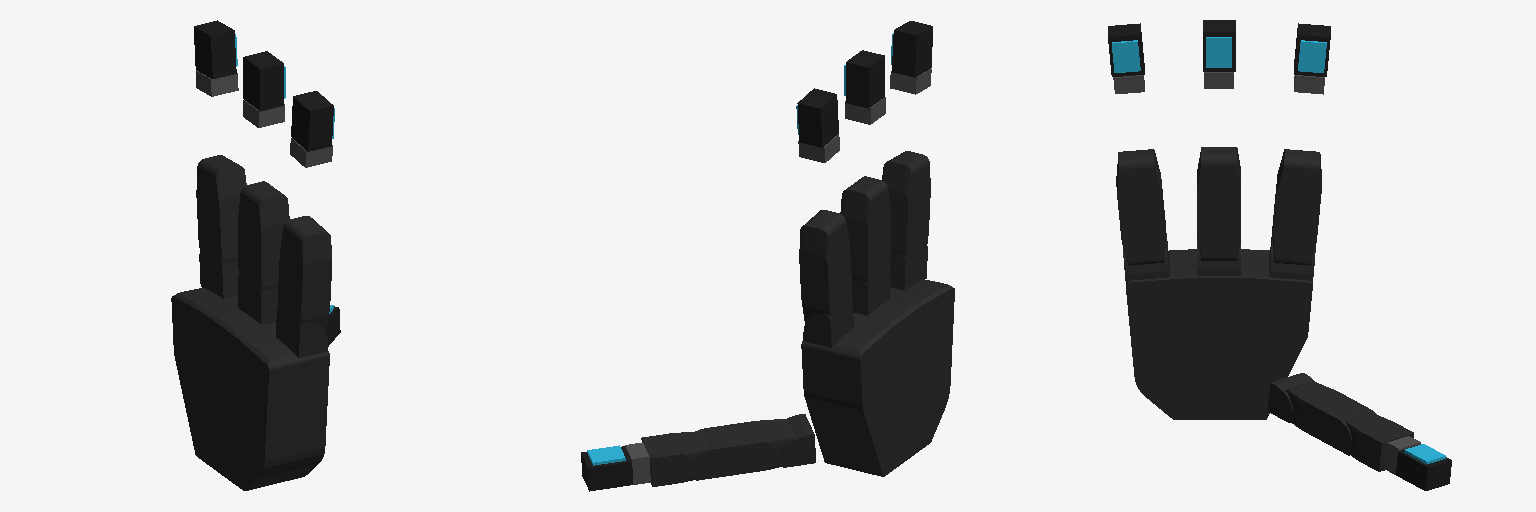
robot.urdf — allegro_right_digit_proxy:
<?xml version='1.0' encoding='utf-8'?>
<robot name="allegro_right_digit_proxy">
  
  
  
  
  
  
  
  <link name="base_link">
    <visual>
      <geometry>
        <mesh filename="meshes/allegro/base_link.obj" />
      </geometry>
      <origin rpy="0 0 0" xyz="0 0 0 " />
      <material name="black">
        <color rgba="0.2 0.2 0.2 1" />
      </material>
    </visual>
    <collision>
      <origin rpy="0 0 0" xyz="-0.009300 0 -0.0475" />
      <geometry>
        
        <box size="0.0408 0.1130 0.095" />
      </geometry>
    </collision>
    <inertial>
      <origin xyz="0 0 0.0475" rpy="0 0 0" />
      <mass value="0.4154" />
      <inertia ixx="1e-4" ixy="0.0" ixz="0.0" iyy="1e-4" iyz="0.0" izz="1e-4" />
    </inertial>
  </link>
  
  
  
  
  <link name="link_0.0">
    <visual>
      <geometry>
        <mesh filename="meshes/allegro/link_0.0.obj" />
      </geometry>
      <material name="black" />
    </visual>
    <collision>
      <geometry>
        <box size="0.0196 0.0275 0.0164" />
      </geometry>
      <origin rpy="0 0 0" xyz="0 0 0.0082" />
    </collision>
    <inertial>
      <mass value="0.0119" />
      <origin xyz="0 0 0" rpy="0 0 0" />
      <inertia ixx="1.01666658333e-06" ixy="0.0" ixz="0.0" iyy="6.47677333333e-07" iyz="0.0" izz="1.01666658333e-06" />
    </inertial>
  </link>
  <joint name="joint_0.0" type="revolute">
    <axis xyz="0 0 1" />
    <limit effort="0.35" lower="-0.47" upper="0.47" velocity="6.283" />
    <parent link="base_link" />
    <child link="link_0.0" />
    <origin rpy="-0.08726646255 0 0" xyz="0 0.0435 -0.001542" />
  </joint>
  <link name="link_1.0">
    <visual>
      <geometry>
        <mesh filename="meshes/allegro/link_1.0.obj" />
      </geometry>
      <material name="black" />
    </visual>
    <collision>
      <geometry>
        <box size="0.0196 0.0275 0.054" />
      </geometry>
      <origin rpy="0 0 0" xyz="0 0 0.027" />
    </collision>
    <inertial>
      <mass value="0.065" />
      <origin xyz="0 0 0" rpy="0 0 0" />
      <inertia ixx="7.95654166667e-05" ixy="1.7199e-05" ixz="8.75875e-06" iyy="2.47088833333e-05" iyz="2.413125e-05" izz="7.95654166667e-05" />
    </inertial>
  </link>
  <joint name="joint_1.0" type="revolute">
    <limit effort="0.35" lower="-0.196" upper="1.61" velocity="6.283" />
    <axis xyz="0 1 0" />
    <parent link="link_0.0" />
    <child link="link_1.0" />
    <origin xyz="0 0 0.0164" />
  </joint>
  <link name="link_2.0">
    <visual>
      <geometry>
        <mesh filename="meshes/allegro/link_2.0.obj" />
      </geometry>
      <material name="black" />
    </visual>
    <collision>
      <geometry>
        <box size="0.0196 0.0275 0.0384" />
      </geometry>
      <origin rpy="0 0 0" xyz="0 0 0.0192" />
    </collision>
    <inertial>
      <mass value="0.0355" />
      <origin xyz="0 0 0" rpy="0 0 0" />
      <inertia ixx="2.63979183333e-05" ixy="6.67968e-06" ixz="4.783625e-06" iyy="1.34948516667e-05" iyz="9.372e-06" izz="2.63979183333e-05" />
    </inertial>
  </link>
  <joint name="joint_2.0" type="revolute">
    <axis xyz="0 1 0" />
    <limit effort="0.35" lower="-0.174" upper="1.709" velocity="6.283" />
    <parent link="link_1.0" />
    <child link="link_2.0" />
    <origin xyz="0 0 0.054" />
  </joint>
  <link name="link_3.0">
    <visual>
      <geometry>
        <mesh filename="meshes/allegro/link_3.0.obj" />
      </geometry>
      <material name="black" />
    </visual>
    <collision>
      <geometry><box size="0.018 0.018 0.0267" /></geometry><origin rpy="0 0 0" xyz="0 0 0.01335" />
    </collision>
    <inertial>
      <mass value="0.0096" />
      <origin xyz="0 0 0" rpy="0 0 0" />
      <inertia ixx="4.701248e-06" ixy="1.255968e-06" ixz="1.2936e-06" iyy="3.649312e-06" iyz="1.7622e-06" izz="4.701248e-06" />
    </inertial>
  <visual><origin xyz="0 0 0.0212" rpy="0 0 0" /><geometry><box size="0.018 0.018 0.011000000000000003" /></geometry><material name="distal_connector"><color rgba="0.35 0.35 0.35 1" /></material></visual></link>
  <joint name="joint_3.0" type="revolute">
    <axis xyz="0 1 0" />
    <limit effort="0.35" lower="-0.227" upper="1.618" velocity="6.283" />
    <parent link="link_2.0" />
    <child link="link_3.0" />
    <origin xyz="0 0 0.0384" />
  </joint>
  <link name="link_4.0">
    <visual>
      <geometry>
        <mesh filename="meshes/allegro/link_0.0.obj" />
      </geometry>
      <material name="black" />
    </visual>
    <collision>
      <geometry>
        <box size="0.0196 0.0275 0.0164" />
      </geometry>
      <origin rpy="0 0 0" xyz="0 0 0.0082" />
    </collision>
    <inertial>
      <mass value="0.0119" />
      <origin xyz="0 0 0" rpy="0 0 0" />
      <inertia ixx="1.01666658333e-06" ixy="0.0" ixz="0.0" iyy="6.47677333333e-07" iyz="0.0" izz="1.01666658333e-06" />
    </inertial>
  </link>
  <joint name="joint_4.0" type="revolute">
    <axis xyz="0 0 1" />
    <limit effort="0.35" lower="-0.47" upper="0.47" velocity="6.283" />
    <parent link="base_link" />
    <child link="link_4.0" />
    <origin rpy="0.0 0 0" xyz="0 0 0.0007" />
  </joint>
  <link name="link_5.0">
    <visual>
      <geometry>
        <mesh filename="meshes/allegro/link_1.0.obj" />
      </geometry>
      <material name="black" />
    </visual>
    <collision>
      <geometry>
        <box size="0.0196 0.0275 0.054" />
      </geometry>
      <origin rpy="0 0 0" xyz="0 0 0.027" />
    </collision>
    <inertial>
      <mass value="0.065" />
      <origin xyz="0 0 0" rpy="0 0 0" />
      <inertia ixx="7.95654166667e-05" ixy="1.7199e-05" ixz="8.75875e-06" iyy="2.47088833333e-05" iyz="2.413125e-05" izz="7.95654166667e-05" />
    </inertial>
  </link>
  <joint name="joint_5.0" type="revolute">
    <limit effort="0.35" lower="-0.196" upper="1.61" velocity="6.283" />
    <axis xyz="0 1 0" />
    <parent link="link_4.0" />
    <child link="link_5.0" />
    <origin xyz="0 0 0.0164" />
  </joint>
  <link name="link_6.0">
    <visual>
      <geometry>
        <mesh filename="meshes/allegro/link_2.0.obj" />
      </geometry>
      <material name="black" />
    </visual>
    <collision>
      <geometry>
        <box size="0.0196 0.0275 0.0384" />
      </geometry>
      <origin rpy="0 0 0" xyz="0 0 0.0192" />
    </collision>
    <inertial>
      <mass value="0.0355" />
      <origin xyz="0 0 0" rpy="0 0 0" />
      <inertia ixx="2.63979183333e-05" ixy="6.67968e-06" ixz="4.783625e-06" iyy="1.34948516667e-05" iyz="9.372e-06" izz="2.63979183333e-05" />
    </inertial>
  </link>
  <joint name="joint_6.0" type="revolute">
    <axis xyz="0 1 0" />
    <limit effort="0.35" lower="-0.174" upper="1.709" velocity="6.283" />
    <parent link="link_5.0" />
    <child link="link_6.0" />
    <origin xyz="0 0 0.054" />
  </joint>
  <link name="link_7.0">
    <visual>
      <geometry>
        <mesh filename="meshes/allegro/link_3.0.obj" />
      </geometry>
      <material name="black" />
    </visual>
    <collision>
      <geometry><box size="0.018 0.018 0.0267" /></geometry><origin rpy="0 0 0" xyz="0 0 0.01335" />
    </collision>
    <inertial>
      <mass value="0.0096" />
      <origin xyz="0 0 0" rpy="0 0 0" />
      <inertia ixx="4.701248e-06" ixy="1.255968e-06" ixz="1.2936e-06" iyy="3.649312e-06" iyz="1.7622e-06" izz="4.701248e-06" />
    </inertial>
  <visual><origin xyz="0 0 0.0212" rpy="0 0 0" /><geometry><box size="0.018 0.018 0.011000000000000003" /></geometry><material name="distal_connector"><color rgba="0.35 0.35 0.35 1" /></material></visual></link>
  <joint name="joint_7.0" type="revolute">
    <axis xyz="0 1 0" />
    <limit effort="0.35" lower="-0.227" upper="1.618" velocity="6.283" />
    <parent link="link_6.0" />
    <child link="link_7.0" />
    <origin xyz="0 0 0.0384" />
  </joint>
  <link name="link_8.0">
    <visual>
      <geometry>
        <mesh filename="meshes/allegro/link_0.0.obj" />
      </geometry>
      <material name="black" />
    </visual>
    <collision>
      <geometry>
        <box size="0.0196 0.0275 0.0164" />
      </geometry>
      <origin rpy="0 0 0" xyz="0 0 0.0082" />
    </collision>
    <inertial>
      <mass value="0.0119" />
      <origin xyz="0 0 0" rpy="0 0 0" />
      <inertia ixx="1.01666658333e-06" ixy="0.0" ixz="0.0" iyy="6.47677333333e-07" iyz="0.0" izz="1.01666658333e-06" />
    </inertial>
  </link>
  <joint name="joint_8.0" type="revolute">
    <axis xyz="0 0 1" />
    <limit effort="0.35" lower="-0.47" upper="0.47" velocity="6.283" />
    <parent link="base_link" />
    <child link="link_8.0" />
    <origin rpy="0.08726646255 0 0" xyz="0 -0.0435 -0.001542" />
  </joint>
  <link name="link_9.0">
    <visual>
      <geometry>
        <mesh filename="meshes/allegro/link_1.0.obj" />
      </geometry>
      <material name="black" />
    </visual>
    <collision>
      <geometry>
        <box size="0.0196 0.0275 0.054" />
      </geometry>
      <origin rpy="0 0 0" xyz="0 0 0.027" />
    </collision>
    <inertial>
      <mass value="0.065" />
      <origin xyz="0 0 0" rpy="0 0 0" />
      <inertia ixx="7.95654166667e-05" ixy="1.7199e-05" ixz="8.75875e-06" iyy="2.47088833333e-05" iyz="2.413125e-05" izz="7.95654166667e-05" />
    </inertial>
  </link>
  <joint name="joint_9.0" type="revolute">
    <limit effort="0.35" lower="-0.196" upper="1.61" velocity="6.283" />
    <axis xyz="0 1 0" />
    <parent link="link_8.0" />
    <child link="link_9.0" />
    <origin xyz="0 0 0.0164" />
  </joint>
  <link name="link_10.0">
    <visual>
      <geometry>
        <mesh filename="meshes/allegro/link_2.0.obj" />
      </geometry>
      <material name="black" />
    </visual>
    <collision>
      <geometry>
        <box size="0.0196 0.0275 0.0384" />
      </geometry>
      <origin rpy="0 0 0" xyz="0 0 0.0192" />
    </collision>
    <inertial>
      <mass value="0.0355" />
      <origin xyz="0 0 0" rpy="0 0 0" />
      <inertia ixx="2.63979183333e-05" ixy="6.67968e-06" ixz="4.783625e-06" iyy="1.34948516667e-05" iyz="9.372e-06" izz="2.63979183333e-05" />
    </inertial>
  </link>
  <joint name="joint_10.0" type="revolute">
    <axis xyz="0 1 0" />
    <limit effort="0.35" lower="-0.174" upper="1.709" velocity="6.283" />
    <parent link="link_9.0" />
    <child link="link_10.0" />
    <origin xyz="0 0 0.054" />
  </joint>
  <link name="link_11.0">
    <visual>
      <geometry>
        <mesh filename="meshes/allegro/link_3.0.obj" />
      </geometry>
      <material name="black" />
    </visual>
    <collision>
      <geometry><box size="0.018 0.018 0.0267" /></geometry><origin rpy="0 0 0" xyz="0 0 0.01335" />
    </collision>
    <inertial>
      <mass value="0.0096" />
      <origin xyz="0 0 0" rpy="0 0 0" />
      <inertia ixx="4.701248e-06" ixy="1.255968e-06" ixz="1.2936e-06" iyy="3.649312e-06" iyz="1.7622e-06" izz="4.701248e-06" />
    </inertial>
  <visual><origin xyz="0 0 0.0212" rpy="0 0 0" /><geometry><box size="0.018 0.018 0.011000000000000003" /></geometry><material name="distal_connector"><color rgba="0.35 0.35 0.35 1" /></material></visual></link>
  <joint name="joint_11.0" type="revolute">
    <axis xyz="0 1 0" />
    <limit effort="0.35" lower="-0.227" upper="1.618" velocity="6.283" />
    <parent link="link_10.0" />
    <child link="link_11.0" />
    <origin xyz="0 0 0.0384" />
  </joint>
  <link name="link_12.0">
    <visual>
      <geometry>
        <mesh filename="meshes/allegro/link_12.0_right.obj" />
      </geometry>
      <material name="black">
        <color rgba=".2 .2 .2 1" />
      </material>
      <origin rpy="3.1415926518 0 0" xyz="0 0 0" />
    </visual>
    <collision>
      <geometry>
        <box size="0.0358 0.034 0.0455" />
      </geometry>
      <origin rpy="0 0 0" xyz="-0.0179 0.009 0.0145" />
    </collision>
    <inertial>
      <mass value="0.0176" />
      <origin xyz="0 0 0" rpy="0 0 0" />
      <inertia ixx="1.89273333333e-5" ixy="7.16716e-06" ixz="5.35568e-06" iyy="1.43008213333e-05" iyz="6.8068e-06" izz="1.89273333333e-05" />
    </inertial>
  </link>
  <joint name="joint_12.0" type="revolute">
    <axis xyz="-1 0 0" />
    <limit effort="0.35" lower="0.263" upper="1.396" velocity="6.283" />
    <parent link="base_link" />
    <child link="link_12.0" />
    <origin rpy="0 -1.65806278845 -1.5707963259" xyz="-0.0182 0.019333 -0.045987" />
  </joint>
  <link name="link_13.0">
    <visual>
      <geometry>
        <mesh filename="meshes/allegro/link_13.0.obj" />
      </geometry>
      <material name="black">
        <color rgba=".2 .2 .2 1" />
      </material>
    </visual>
    <collision>
      <geometry>
        <box size="0.0196 0.0275 0.0177" />
      </geometry>
      <origin rpy="0 0 0" xyz="0 0 0.00885" />
    </collision>
    <inertial>
      <mass value="0.0119" />
      <origin xyz="0 0 0" rpy="0 0 0" />
      <inertia ixx="4.24250866667e-06" ixy="1.032087e-06" ixz="1.603525e-06" iyy="4.52362633333e-06" iyz="1.44808125e-06" izz="4.24250866667e-06" />
    </inertial>
  </link>
  <joint name="joint_13.0" type="revolute">
    <axis xyz="0 0 1" />
    <limit effort="0.35" lower="-0.105" upper="1.163" velocity="6.283" />
    <parent link="link_12.0" />
    <child link="link_13.0" />
    
    <origin xyz="-0.027 0.005 0.0399" />
    
    
  </joint>
  <link name="link_14.0">
    <visual>
      <geometry>
        <mesh filename="meshes/allegro/link_14.0.obj" />
      </geometry>
      <material name="black">
      </material>
    </visual>
    <collision>
      <geometry>
        <box size="0.0196 0.0275 0.0514" />
      </geometry>
      <origin rpy="0 0 0" xyz="0 0 0.0257" />
    </collision>
    <inertial>
      <mass value="0.038" />
      <origin xyz="0 0 0" rpy="0 0 0" />
      <inertia ixx="4.30439933333e-05" ixy="9.57068e-06" ixz="5.1205e-06" iyy="1.44451933333e-05" iyz="1.342825e-05" izz="4.30439933333e-05" />
    </inertial>
  </link>
  <joint name="joint_14.0" type="revolute">
    <axis xyz="0 1 0" />
    <limit effort="0.35" lower="-0.189" upper="1.644" velocity="6.283" />
    <parent link="link_13.0" />
    <child link="link_14.0" />
    <origin xyz="0 0 0.0177" />
  </joint>
  <link name="link_15.0">
    <visual>
      <geometry>
        <mesh filename="meshes/allegro/link_15.0.obj" />
      </geometry>
      <material name="black">
      </material>
    </visual>
    <collision>
      <geometry><box size="0.018 0.018 0.0423" /></geometry><origin rpy="0 0 0" xyz="0 0 0.02115" />
    </collision>
    <inertial>
      <mass value="0.0388" />
      <origin xyz="0 0 0" rpy="0 0 0" />
      <inertia ixx="3.29223173333e-05" ixy="8.042076e-06" ixz="5.2283e-06" iyy="1.47493026667e-5" iyz="1.1283525e-5" izz="3.29223173333e-05" />
    </inertial>
  <visual><origin xyz="0 0 0.0368" rpy="0 0 0" /><geometry><box size="0.018 0.018 0.010999999999999996" /></geometry><material name="distal_connector"><color rgba="0.35 0.35 0.35 1" /></material></visual></link>
  <joint name="joint_15.0" type="revolute">
    <axis xyz="0 1 0" />
    <limit effort="0.35" lower="-0.162" upper="1.719" velocity="6.283" />
    <parent link="link_14.0" />
    <child link="link_15.0" />
    <origin xyz="0 0 0.0514" />
  </joint>
  <link name="digit_index_housing"><inertial><mass value="0.02" /><inertia ixx="1.8816666666666667e-06" iyy="1.6416666666666667e-06" izz="1.0933333333333334e-06" ixy="0" ixz="0" iyz="0" /></inertial><visual><geometry><box size="0.016 0.02 0.027" /></geometry><material name="digit_index_housing"><color rgba="0.15 0.15 0.15 1" /></material></visual><collision><geometry><box size="0.016 0.02 0.027" /></geometry></collision></link><link name="digit_index_gel"><inertial><mass value="0.002" /><inertia ixx="1.0933333333333335e-07" iyy="6.733333333333334e-08" izz="4.333333333333333e-08" ixy="0" ixz="0" iyz="0" /></inertial><visual><geometry><box size="0.002 0.016 0.02" /></geometry><material name="digit_index_gel"><color rgba="0.2 0.75 0.9 1" /></material></visual><collision><geometry><box size="0.002 0.016 0.02" /></geometry></collision></link><joint name="digit_index_housing_mount" type="fixed"><parent link="link_3.0" /><child link="digit_index_housing" /><origin xyz="-0.0003 0.0 0.0402" rpy="0.0 0.0 0.0" /></joint><joint name="digit_index_gel_mount" type="fixed"><parent link="digit_index_housing" /><child link="digit_index_gel" /><origin xyz="0.0091 0 0" rpy="0 0 0" /></joint><link name="digit_middle_housing"><inertial><mass value="0.02" /><inertia ixx="1.8816666666666667e-06" iyy="1.6416666666666667e-06" izz="1.0933333333333334e-06" ixy="0" ixz="0" iyz="0" /></inertial><visual><geometry><box size="0.016 0.02 0.027" /></geometry><material name="digit_middle_housing"><color rgba="0.15 0.15 0.15 1" /></material></visual><collision><geometry><box size="0.016 0.02 0.027" /></geometry></collision></link><link name="digit_middle_gel"><inertial><mass value="0.002" /><inertia ixx="1.0933333333333335e-07" iyy="6.733333333333334e-08" izz="4.333333333333333e-08" ixy="0" ixz="0" iyz="0" /></inertial><visual><geometry><box size="0.002 0.016 0.02" /></geometry><material name="digit_middle_gel"><color rgba="0.2 0.75 0.9 1" /></material></visual><collision><geometry><box size="0.002 0.016 0.02" /></geometry></collision></link><joint name="digit_middle_housing_mount" type="fixed"><parent link="link_7.0" /><child link="digit_middle_housing" /><origin xyz="-0.0003 0.0 0.0402" rpy="0.0 0.0 0.0" /></joint><joint name="digit_middle_gel_mount" type="fixed"><parent link="digit_middle_housing" /><child link="digit_middle_gel" /><origin xyz="0.0091 0 0" rpy="0 0 0" /></joint><link name="digit_ring_housing"><inertial><mass value="0.02" /><inertia ixx="1.8816666666666667e-06" iyy="1.6416666666666667e-06" izz="1.0933333333333334e-06" ixy="0" ixz="0" iyz="0" /></inertial><visual><geometry><box size="0.016 0.02 0.027" /></geometry><material name="digit_ring_housing"><color rgba="0.15 0.15 0.15 1" /></material></visual><collision><geometry><box size="0.016 0.02 0.027" /></geometry></collision></link><link name="digit_ring_gel"><inertial><mass value="0.002" /><inertia ixx="1.0933333333333335e-07" iyy="6.733333333333334e-08" izz="4.333333333333333e-08" ixy="0" ixz="0" iyz="0" /></inertial><visual><geometry><box size="0.002 0.016 0.02" /></geometry><material name="digit_ring_gel"><color rgba="0.2 0.75 0.9 1" /></material></visual><collision><geometry><box size="0.002 0.016 0.02" /></geometry></collision></link><joint name="digit_ring_housing_mount" type="fixed"><parent link="link_11.0" /><child link="digit_ring_housing" /><origin xyz="-0.0003 0.0 0.0402" rpy="0.0 0.0 0.0" /></joint><joint name="digit_ring_gel_mount" type="fixed"><parent link="digit_ring_housing" /><child link="digit_ring_gel" /><origin xyz="0.0091 0 0" rpy="0 0 0" /></joint><link name="digit_thumb_housing"><inertial><mass value="0.02" /><inertia ixx="1.8816666666666667e-06" iyy="1.6416666666666667e-06" izz="1.0933333333333334e-06" ixy="0" ixz="0" iyz="0" /></inertial><visual><geometry><box size="0.016 0.02 0.027" /></geometry><material name="digit_thumb_housing"><color rgba="0.15 0.15 0.15 1" /></material></visual><collision><geometry><box size="0.016 0.02 0.027" /></geometry></collision></link><link name="digit_thumb_gel"><inertial><mass value="0.002" /><inertia ixx="1.0933333333333335e-07" iyy="6.733333333333334e-08" izz="4.333333333333333e-08" ixy="0" ixz="0" iyz="0" /></inertial><visual><geometry><box size="0.002 0.016 0.02" /></geometry><material name="digit_thumb_gel"><color rgba="0.2 0.75 0.9 1" /></material></visual><collision><geometry><box size="0.002 0.016 0.02" /></geometry></collision></link><joint name="digit_thumb_housing_mount" type="fixed"><parent link="link_15.0" /><child link="digit_thumb_housing" /><origin xyz="-0.0003 0.0 0.0558" rpy="0.0 0.0 0.0" /></joint><joint name="digit_thumb_gel_mount" type="fixed"><parent link="digit_thumb_housing" /><child link="digit_thumb_gel" /><origin xyz="0.0091 0 0" rpy="0 0 0" /></joint></robot>

--- Facts derived from the render (not from the file) ---
3 views of the same robot in one strip: view 1: azimuth 30°, elevation 25°; view 2: azimuth 150°, elevation 25°; view 3: azimuth 270°, elevation 25° (orthographic).
Model allegro_right_digit_proxy with 25 links and 24 joints (16 revolute, 8 fixed), rooted at base_link, posed all joints at 0 but 1 set to mid-range because 0 is outside their limits (joint_12.0 = 0.8295).
Links seen in each view (by area): view 1: base_link, link_9.0, link_5.0, link_1.0, digit_ring_housing, digit_middle_housing, digit_index_housing, link_8.0, link_4.0, link_0.0, link_3.0, link_7.0 (+1 smaller); view 2: base_link, link_1.0, link_5.0, link_14.0, link_9.0, link_15.0, digit_index_housing, digit_ring_housing, digit_middle_housing, digit_thumb_housing, link_13.0, link_0.0 (+6 smaller); view 3: base_link, link_1.0, link_9.0, link_5.0, link_14.0, link_15.0, digit_thumb_housing, link_13.0, digit_index_housing, digit_ring_housing, digit_middle_housing, digit_index_gel (+7 smaller).
Link boxes in pixels (left/top/right/bottom): base_link: left=171, top=288, right=329, bottom=490; link_9.0: left=278, top=216, right=331, bottom=335; link_5.0: left=238, top=181, right=289, bottom=303; link_1.0: left=196, top=155, right=246, bottom=277; digit_ring_housing: left=291, top=91, right=333, bottom=151; digit_middle_housing: left=243, top=51, right=283, bottom=111; digit_index_housing: left=194, top=20, right=236, bottom=78; link_8.0: left=276, top=307, right=327, bottom=357; link_4.0: left=238, top=277, right=277, bottom=324; link_0.0: left=199, top=254, right=238, bottom=298; link_3.0: left=196, top=70, right=238, bottom=96; link_7.0: left=243, top=100, right=284, bottom=127; base_link: left=801, top=279, right=954, bottom=476; link_1.0: left=799, top=210, right=851, bottom=326; link_5.0: left=840, top=176, right=890, bottom=292; link_14.0: left=693, top=419, right=795, bottom=480; link_9.0: left=882, top=151, right=930, bottom=269; link_15.0: left=625, top=431, right=709, bottom=486; digit_index_housing: left=797, top=88, right=838, bottom=147; digit_ring_housing: left=892, top=21, right=932, bottom=77; digit_middle_housing: left=846, top=50, right=884, bottom=108; digit_thumb_housing: left=581, top=446, right=632, bottom=491; link_13.0: left=780, top=414, right=815, bottom=467; link_0.0: left=803, top=299, right=853, bottom=347; base_link: left=1126, top=249, right=1312, bottom=419; link_1.0: left=1272, top=149, right=1321, bottom=265; link_9.0: left=1116, top=149, right=1165, bottom=265; link_5.0: left=1197, top=147, right=1240, bottom=260; link_14.0: left=1285, top=381, right=1376, bottom=455; link_15.0: left=1344, top=412, right=1420, bottom=474; digit_thumb_housing: left=1396, top=445, right=1451, bottom=490; link_13.0: left=1268, top=373, right=1314, bottom=422; digit_index_housing: left=1294, top=23, right=1330, bottom=76; digit_ring_housing: left=1108, top=23, right=1144, bottom=76; digit_middle_housing: left=1203, top=20, right=1235, bottom=71; digit_index_gel: left=1298, top=40, right=1326, bottom=72.
Size in the robot's own frame: 0.1529 by 0.2089 by 0.2582 metres.
Meshes: 9 distinct files referenced, 10 mesh visuals loaded (6 OBJ); not drawn: 7 (reference not matched to a file when rendering).
